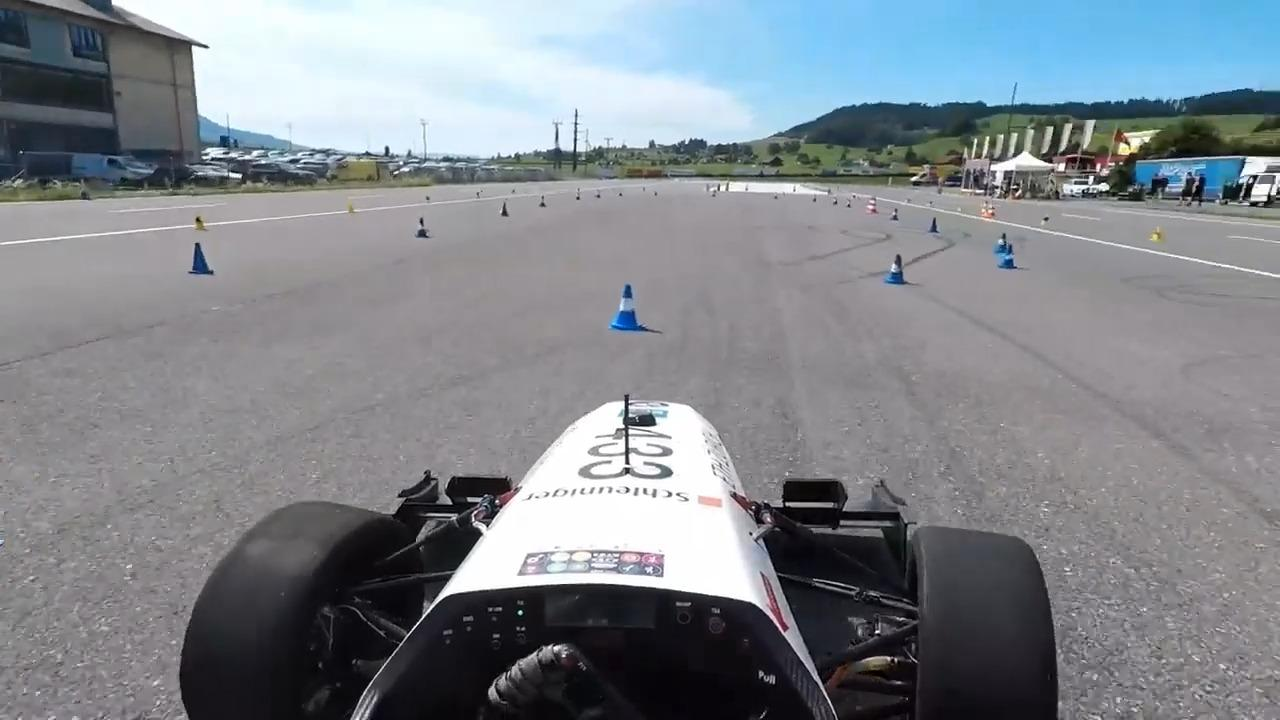blue_cone: (610, 278, 645, 333), (990, 228, 1022, 273), (885, 246, 908, 285)
